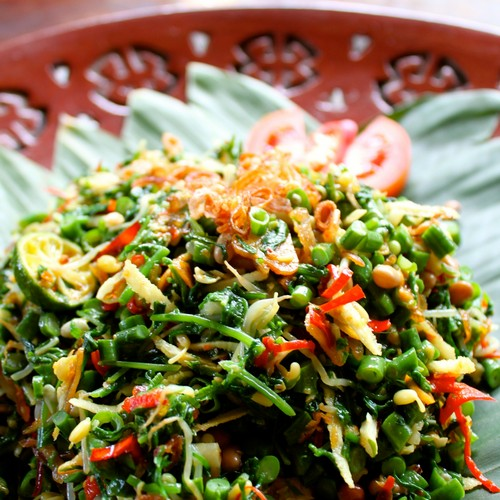jukut urap: (20, 131, 447, 487)
